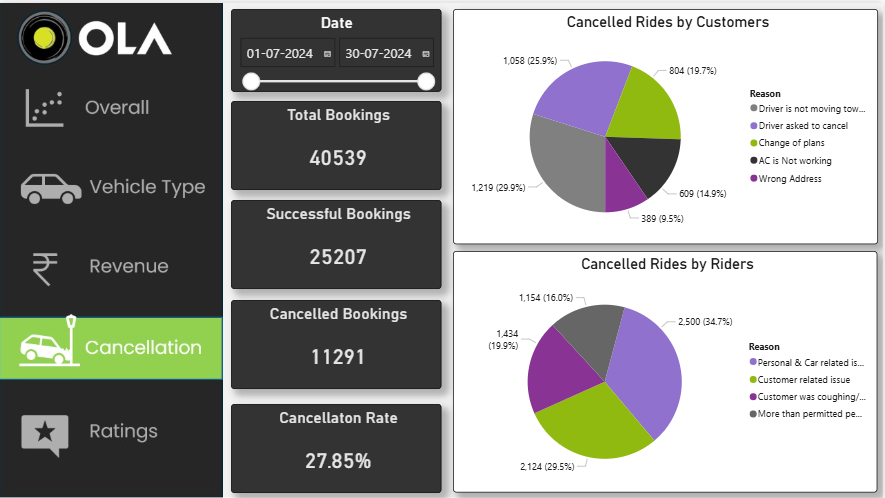

Layout of this report page (visuals, bound fields, positions):
{"tool":"powerbi","page":{"name":"Cancellation","canvas":[1280,720],"ordinal":3},"visuals":[{"type":"actionButton","box":[0,107.4,323.4,90.8],"z":0},{"type":"actionButton","box":[0,117,323.4,90.8],"z":1000},{"type":"actionButton","box":[0,218.8,323.4,103.2],"z":2000},{"type":"actionButton","box":[0,331.7,323.4,99.1],"z":3000},{"type":"actionButton","box":[0,572.6,323.4,110.1],"z":4000},{"type":"pieChart","title":"Cancelled Rides by Customers","fields":{"Category":["OLA Bookings-40000-Rows(July).Canceled_Rides_by_Customer"],"Y":["CountNonNull(OLA Bookings-40000-Rows(July).Canceled_Rides_by_Customer)"]},"box":[658.1,8.7,616.1,341.3],"z":5000},{"type":"pieChart","title":"Cancelled Rides by Riders","fields":{"Category":["OLA Bookings-40000-Rows(July).Canceled_Rides_by_Driver"],"Y":["CountNonNull(OLA Bookings-40000-Rows(July).Canceled_Rides_by_Driver)"]},"box":[658.1,360.1,614.7,350],"z":6000},{"type":"slicer","title":"Date","fields":{"Values":["OLA Bookings-40000-Rows(July).Date"]},"box":[335.5,8.7,305.2,120],"z":7000},{"type":"card","title":"Total Bookings","fields":{"Values":["CountNonNull(OLA Bookings-40000-Rows(July).Booking_ID)"]},"box":[335.5,141.7,305.2,128.7],"z":8000},{"type":"card","title":"Successful Bookings","fields":{"Values":["CountNonNull(OLA Bookings-40000-Rows(July).Booking_ID)"]},"box":[335.5,284.9,305.2,128.7],"z":9000},{"type":"card","title":"Cancelled Bookings","fields":{"Values":["CountNonNull(OLA Bookings-40000-Rows(July).Booking_ID)"]},"box":[335.5,431,305.2,128.7],"z":10000},{"type":"card","title":"Cancellaton Rate","fields":{"Values":["OLA.Cancellation_Rate"]},"box":[335.5,581.4,305.2,128.7],"z":11000}]}

Visuals, with their boxes in screenshot pixels (x1, y1, x2, y2), scaled from the page's 1280x720 canvas onto the 885x498 screenshot:
actionButton: box=[0, 74, 224, 137]
actionButton: box=[0, 81, 224, 144]
actionButton: box=[0, 151, 224, 223]
actionButton: box=[0, 229, 224, 298]
actionButton: box=[0, 396, 224, 472]
"Cancelled Rides by Customers" pieChart: box=[455, 6, 881, 242]
"Cancelled Rides by Riders" pieChart: box=[455, 249, 880, 491]
"Date" slicer: box=[232, 6, 443, 89]
"Total Bookings" card: box=[232, 98, 443, 187]
"Successful Bookings" card: box=[232, 197, 443, 286]
"Cancelled Bookings" card: box=[232, 298, 443, 387]
"Cancellaton Rate" card: box=[232, 402, 443, 491]
